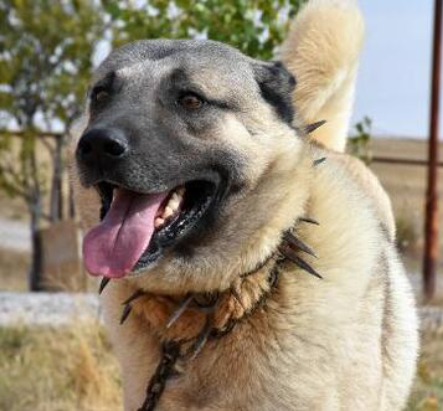dog: (72, 36, 420, 411)
